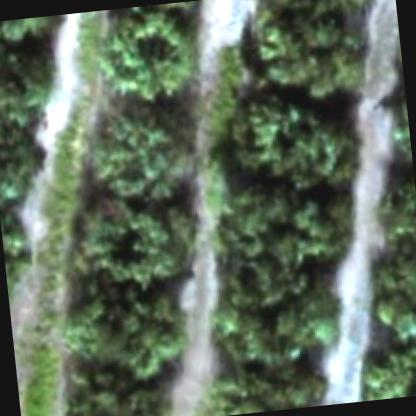Canopy-Citrus: (204, 180, 361, 314), (70, 193, 199, 298), (78, 96, 200, 205), (250, 0, 379, 103), (230, 96, 365, 193), (57, 291, 192, 388), (210, 296, 346, 378), (90, 14, 200, 108), (205, 360, 327, 416), (364, 233, 415, 343), (57, 371, 176, 415), (347, 330, 415, 401), (0, 45, 57, 128), (0, 125, 50, 205), (367, 171, 415, 247), (379, 70, 413, 174), (0, 13, 74, 55), (95, 0, 208, 27), (253, 0, 386, 16), (384, 0, 404, 84)
